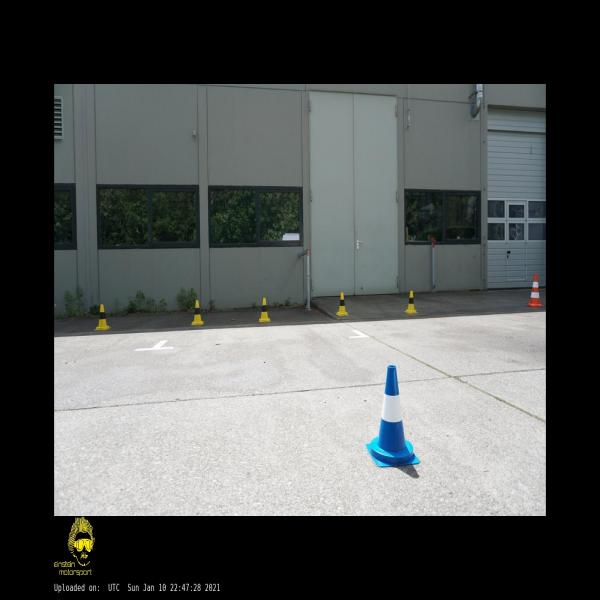blue_cone: (366, 365, 420, 467)
large_orange_cone: (526, 274, 544, 306)
yellow_cone: (94, 304, 110, 330), (404, 290, 418, 314), (190, 300, 203, 325), (335, 292, 348, 315), (259, 298, 270, 322)
